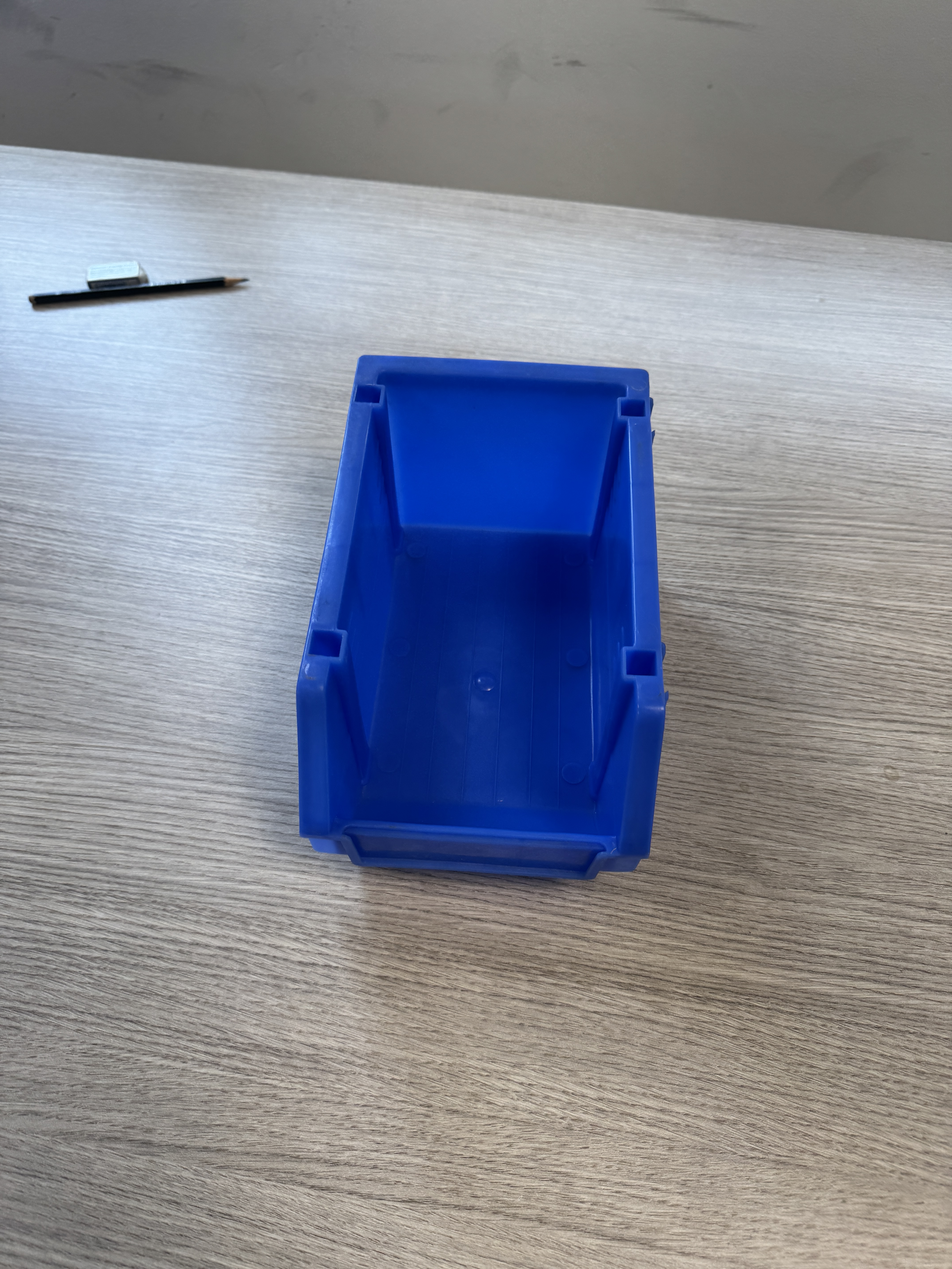Bin Boundary: (321, 365, 665, 839)
